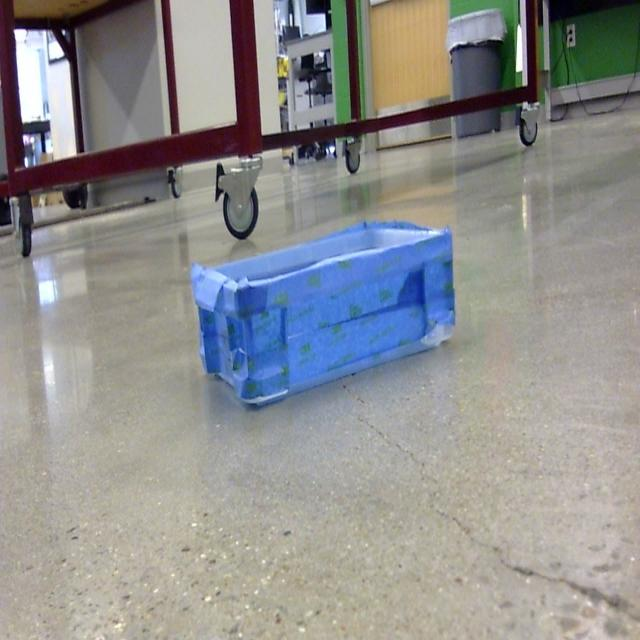bucket: (190, 221, 456, 412)
